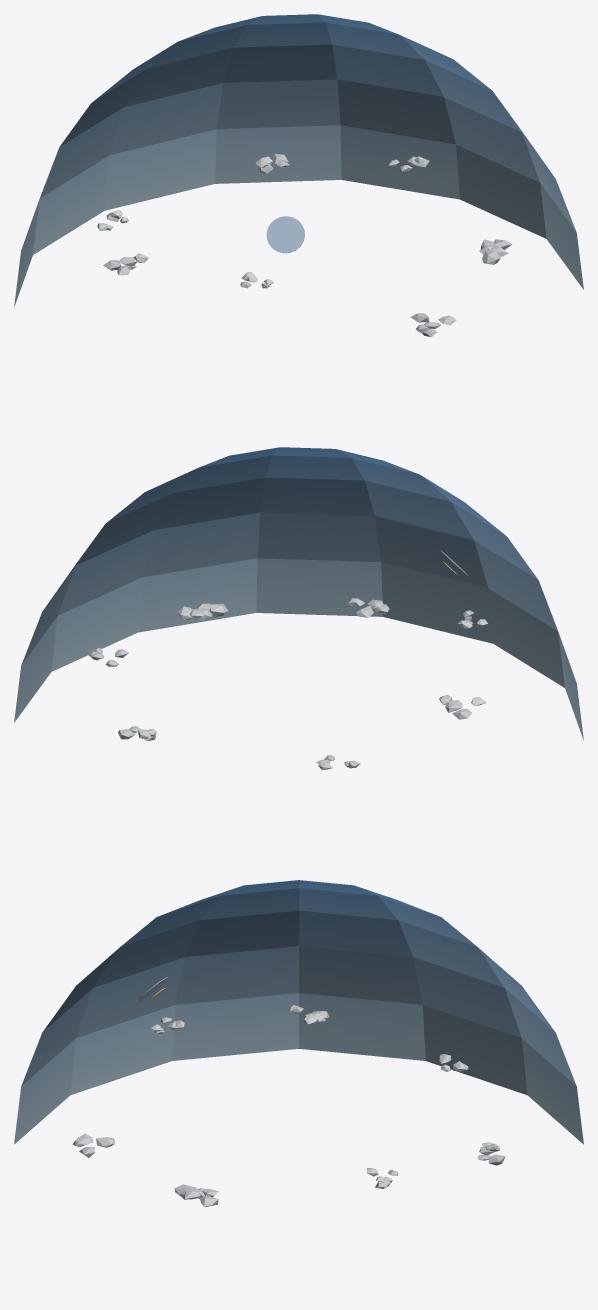
Rendered from sky-clear-day.glb.
3 renders of one model, top to bottom at view 1: azimuth 30°, elevation 25°; view 2: azimuth 150°, elevation 25°; view 3: azimuth 270°, elevation 25°, orthographic. The views are drawn at different scales.
Visible parts, largest first — view 1: sky_clear_day; view 2: sky_clear_day; view 3: sky_clear_day.
Boxes of the visible parts, bbox=[...] form: sky_clear_day: bbox=[14, 14, 583, 336]; sky_clear_day: bbox=[14, 447, 583, 770]; sky_clear_day: bbox=[14, 880, 583, 1207].
Bounding box in the file's own units: 384 × 192 × 374.
